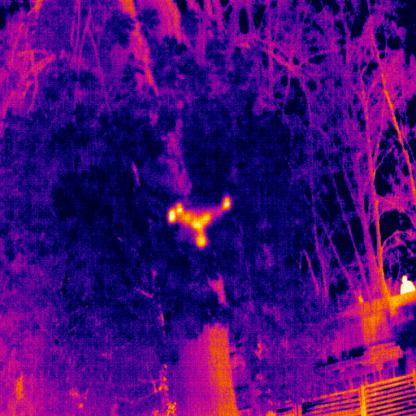drone: (166, 194, 231, 246)
